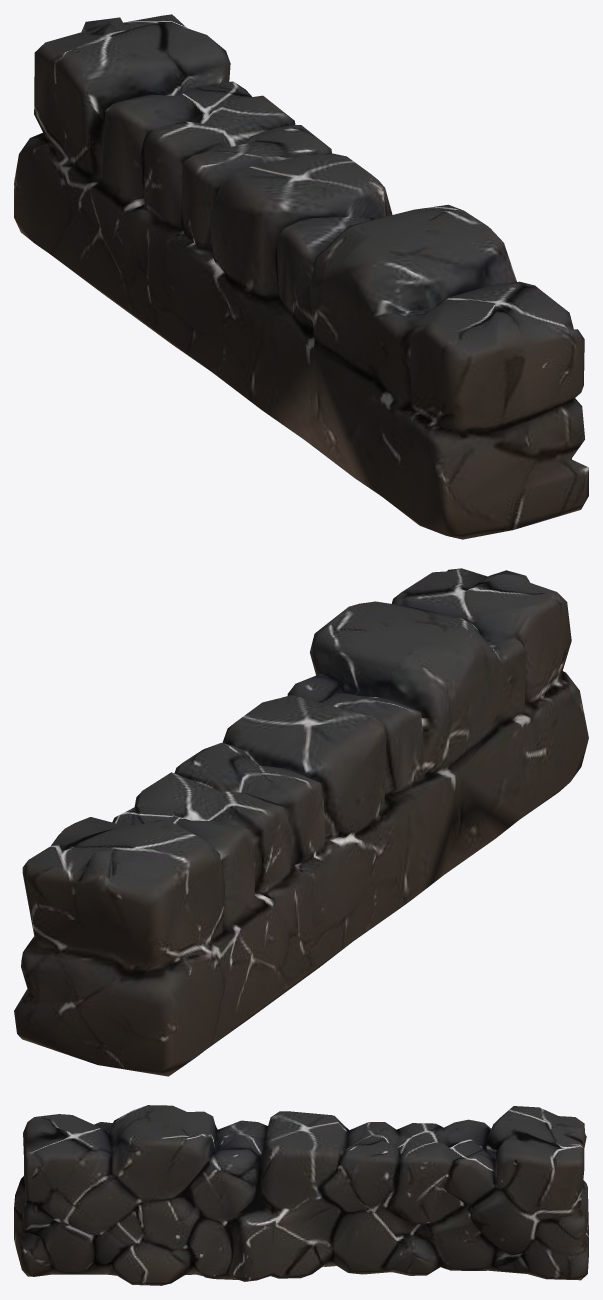
File: rockwall.glb
The picture shows the model from 3 angles, top to bottom: view 1: azimuth 30°, elevation 25°; view 2: azimuth 150°, elevation 25°; view 3: azimuth 270°, elevation 25°; orthographic projection. The views are drawn at different scales.
Visible parts, largest first — view 1: tripo_node_04e5e338-76d1-40c9-b30e-502f06c0d5eb; view 2: tripo_node_04e5e338-76d1-40c9-b30e-502f06c0d5eb; view 3: tripo_node_04e5e338-76d1-40c9-b30e-502f06c0d5eb.
Part boxes in pixels (left/top/right/bottom): tripo_node_04e5e338-76d1-40c9-b30e-502f06c0d5eb: left=14, top=14, right=588, bottom=539; tripo_node_04e5e338-76d1-40c9-b30e-502f06c0d5eb: left=14, top=568, right=588, bottom=1076; tripo_node_04e5e338-76d1-40c9-b30e-502f06c0d5eb: left=14, top=1105, right=588, bottom=1285.
Bounding box in the file's own units: 0.2402 × 0.2637 × 0.998.
1 material, 1 textured.
